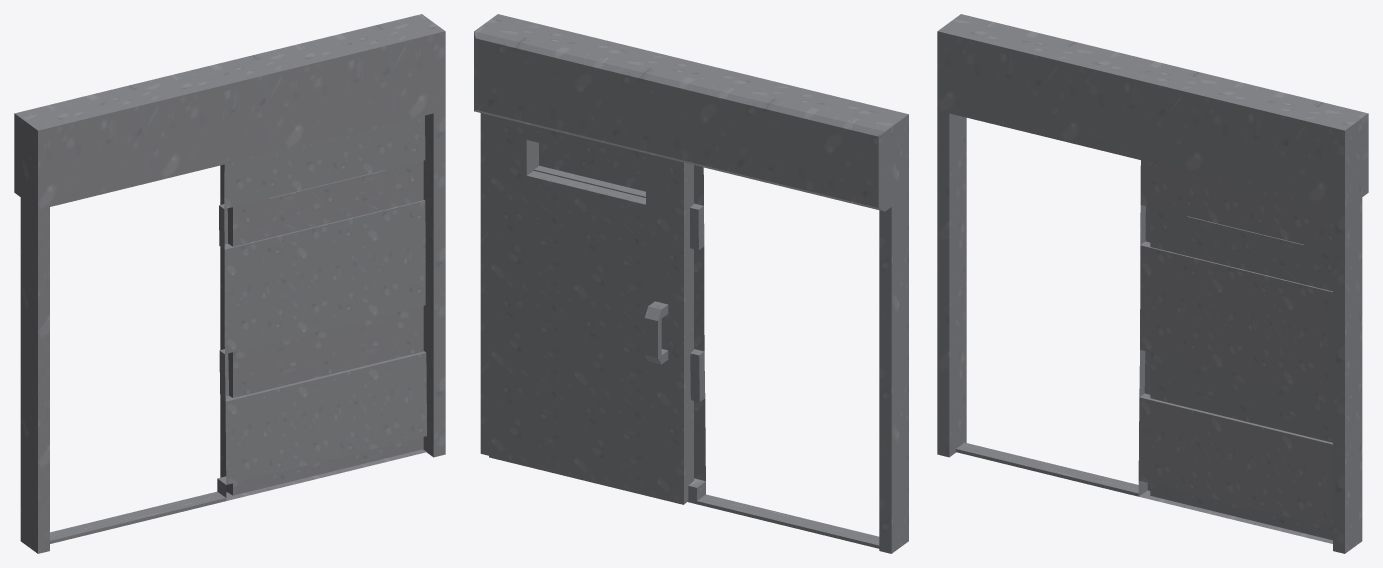
The model's file is cellDoor.fbx.
3 views of the same model, side by side, from view 1: azimuth 30°, elevation 25°; view 2: azimuth 150°, elevation 25°; view 3: azimuth 330°, elevation 25° (orthographic).
Parts seen in each view (by area): view 1: cora_door_wal2, door; view 2: cora_door_wal2, door; view 3: cora_door_wal2, door.
Part boxes in pixels (x1,y1,x2,y2): cora_door_wal2: (14,14,445,553); door: (220,160,423,495); cora_door_wal2: (474,14,908,553); door: (489,115,693,504); cora_door_wal2: (937,14,1368,553); door: (1150,207,1332,540).
Bounding box in the file's own units: 6.13 × 6.09 × 0.8007.
1 material, 1 textured.
